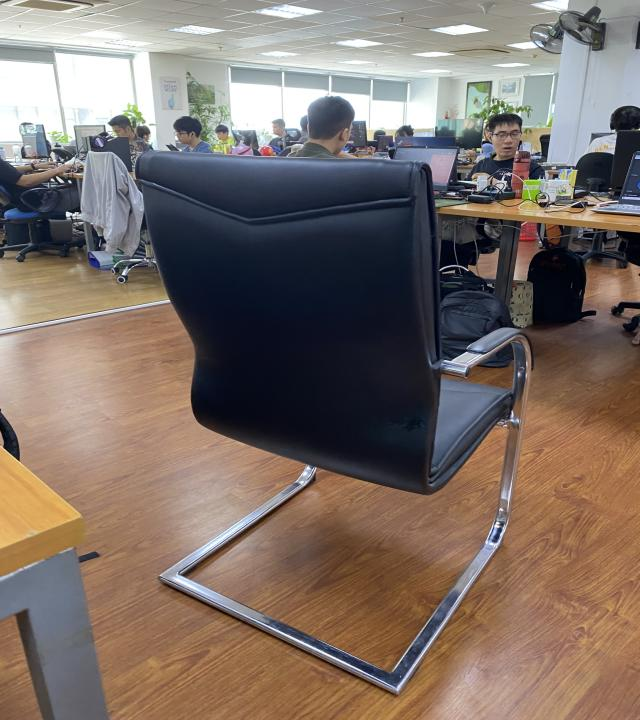SS_03: (133, 149, 535, 698)
